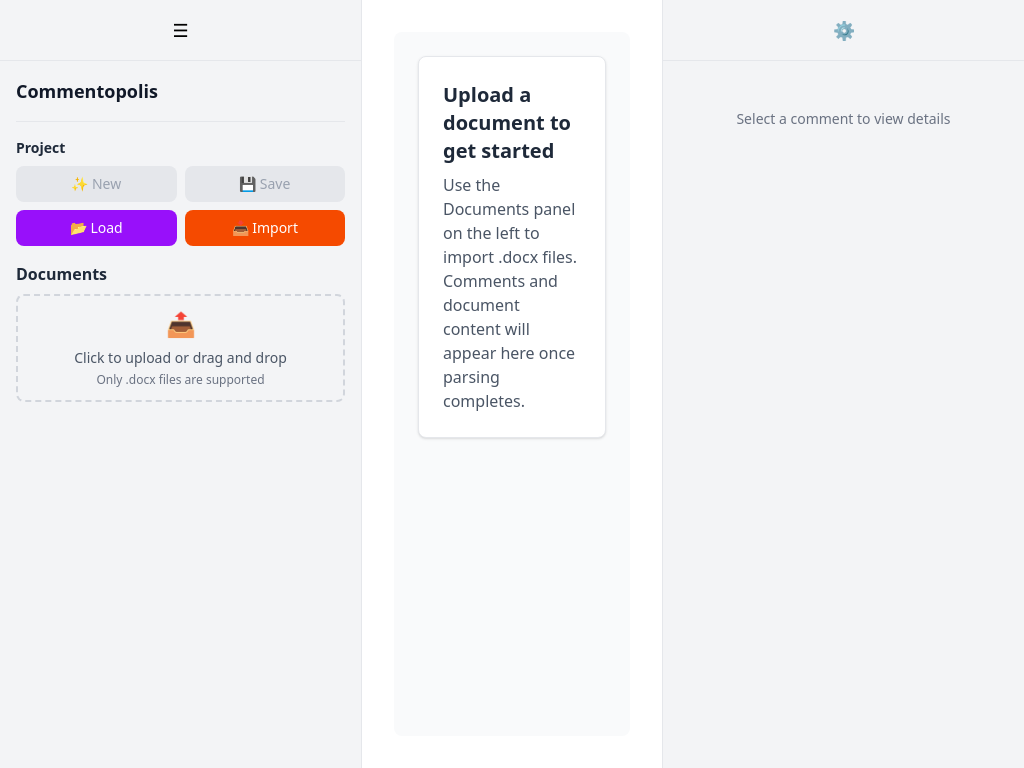
Test: App › toggles left panel state when button is clicked
Expected: the heading "Documents" is shown, [16,263,107,285]
// Click to change to focused state
Click the button titled "Toggle left panel". click: (180, 30)
box: [8,8,353,52]
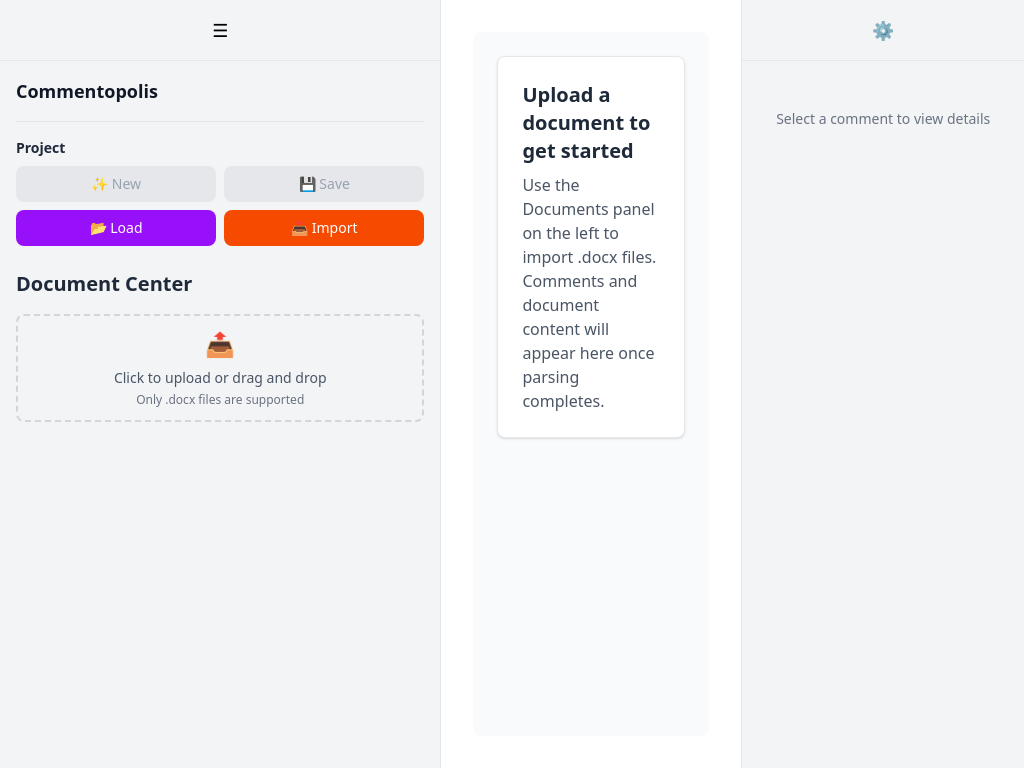
Expected: the heading "Document Center" is shown, [16,270,192,297]
